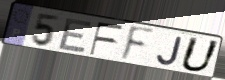5: (31, 12, 61, 48)
E: (56, 17, 95, 54)
F: (118, 24, 156, 63), (88, 21, 126, 57)
J: (155, 35, 184, 67)
U: (178, 35, 222, 73)
